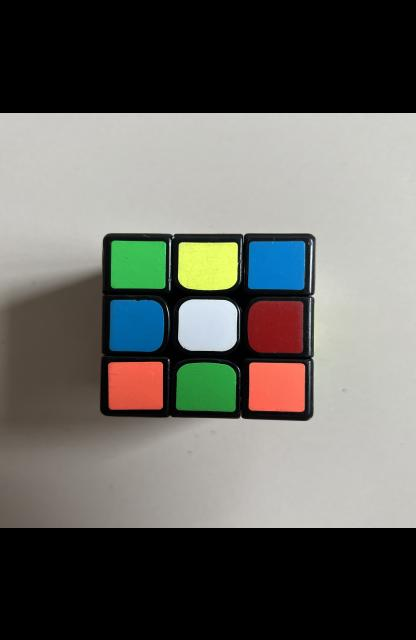Blue: (109, 298, 164, 351), (248, 240, 306, 289)
Green: (176, 361, 237, 411), (110, 240, 167, 288)
Orange: (248, 361, 306, 411), (108, 360, 163, 409)
Red: (248, 299, 303, 352)
White: (178, 298, 238, 350)
Yellow: (178, 241, 238, 290)
